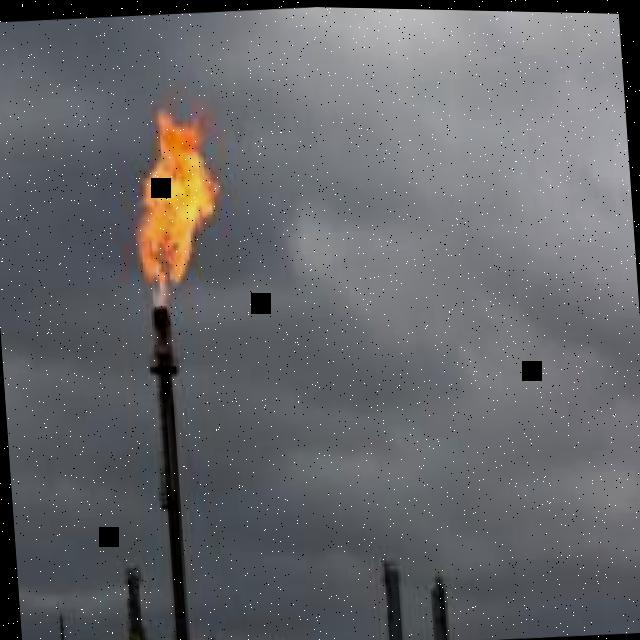fire: (132, 107, 219, 313)
